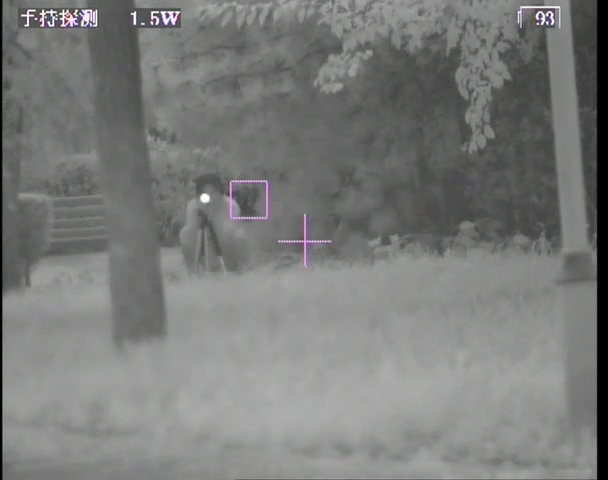my: (199, 191, 213, 206)
